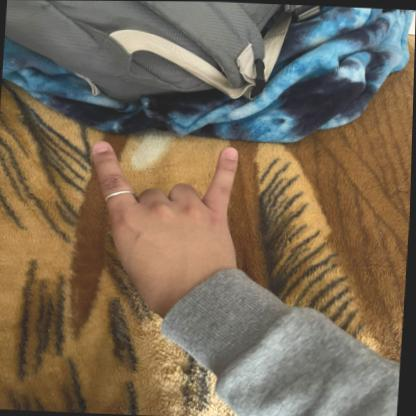U: (74, 131, 254, 301)
